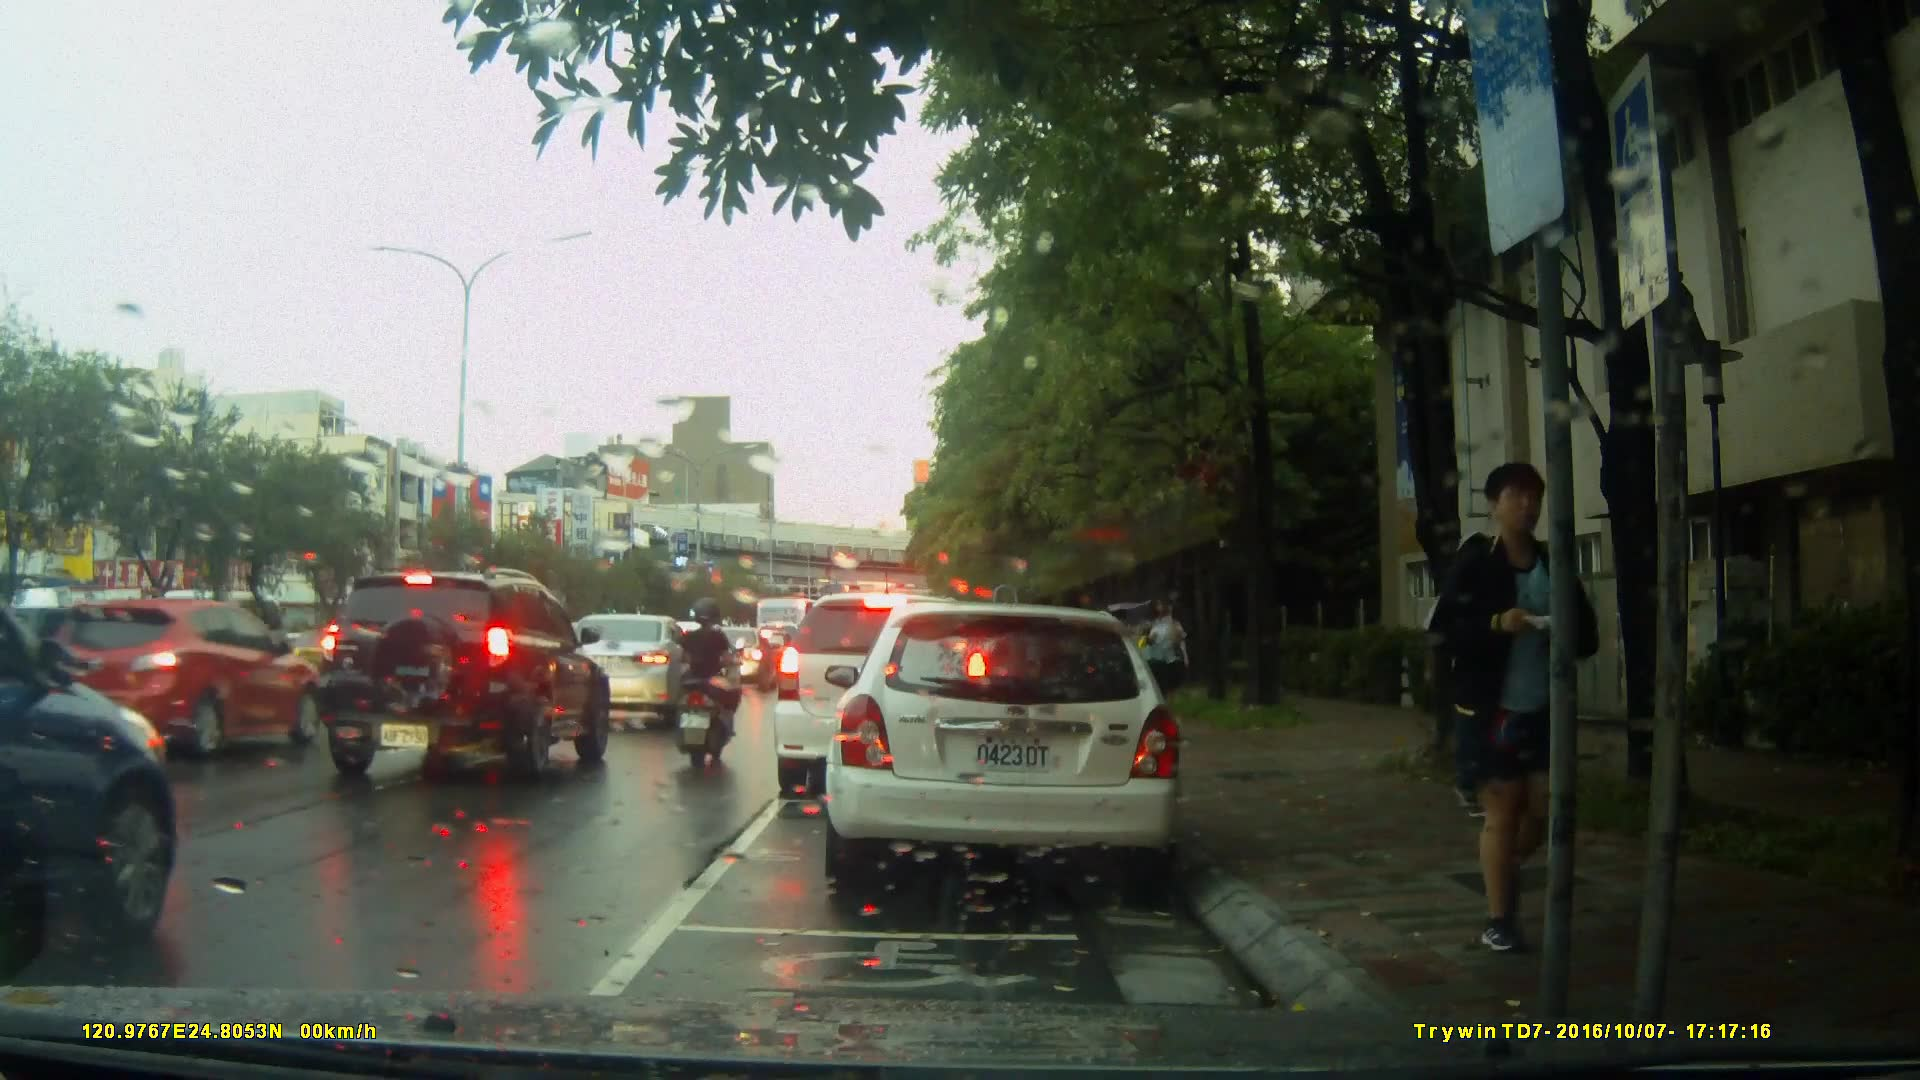pedestrian: (1461, 456, 1617, 947), (1433, 517, 1534, 820), (1136, 588, 1192, 730)
rider: (671, 596, 759, 773)
vehicle: (815, 593, 1201, 900), (1, 545, 179, 965), (308, 565, 614, 789), (771, 590, 995, 802), (45, 596, 317, 767), (535, 612, 704, 736), (701, 626, 771, 683)
